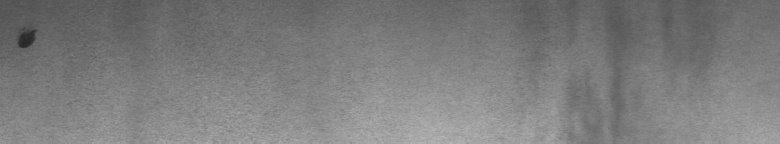fi: (11, 24, 40, 56)
